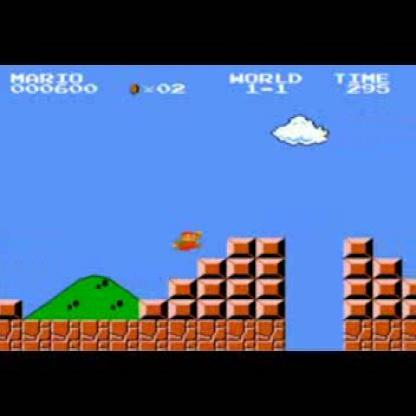Hoyo: (281, 320, 349, 350)
